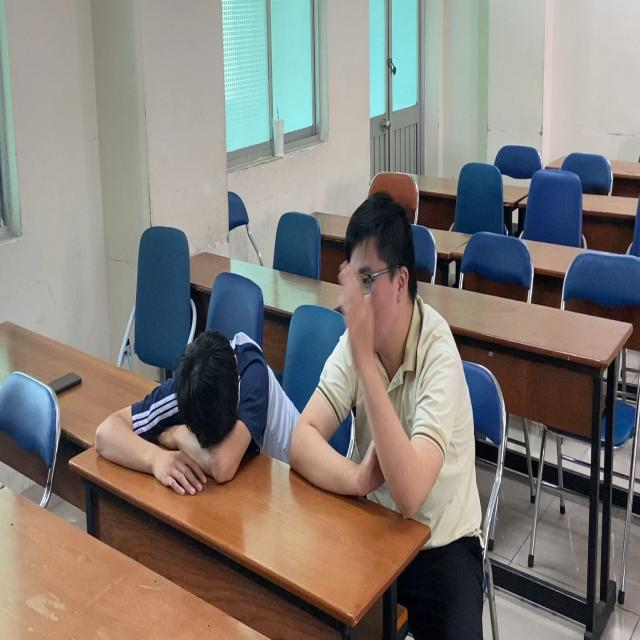raise_hand: (324, 193, 476, 556)
sleep: (92, 319, 296, 509)
